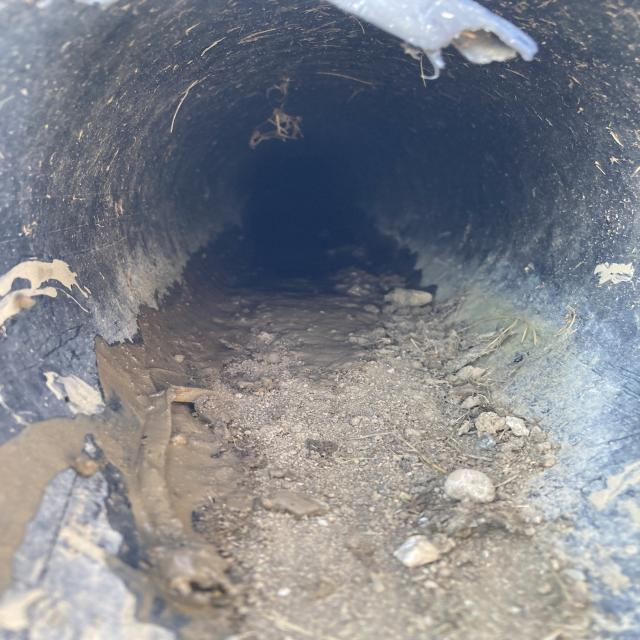dirt: (174, 275, 561, 640)
root: (256, 80, 306, 144)
